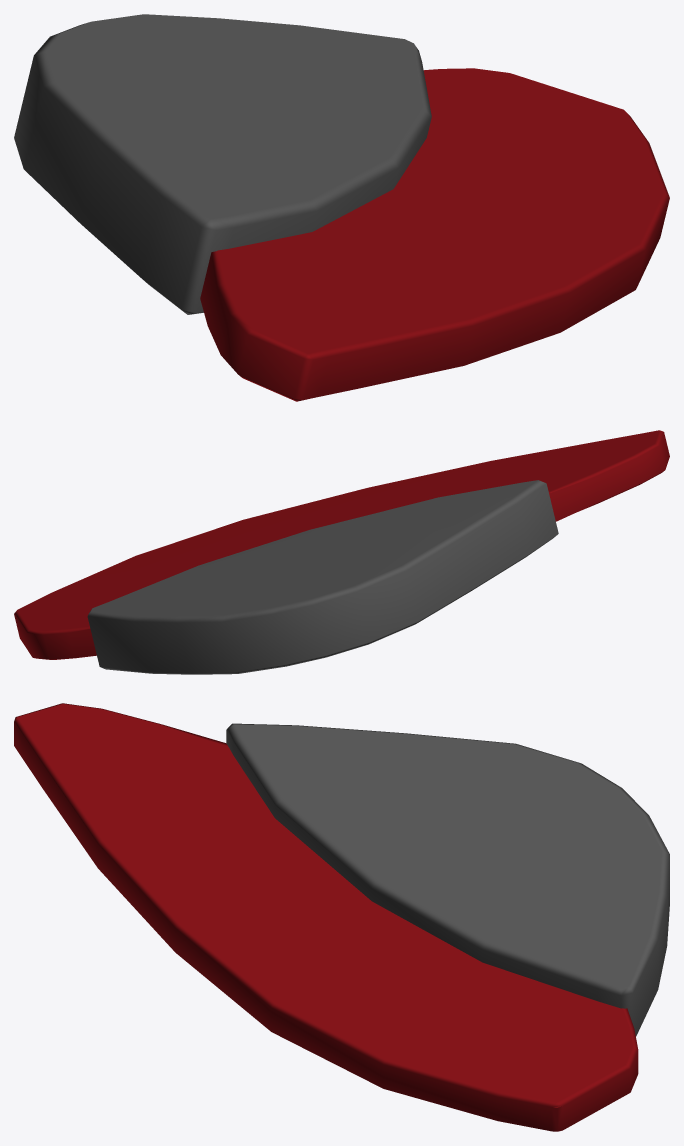
The model's file is Ship_enemy_07_Wing_L.fbx.
3 views of the same model, one above another, from view 1: azimuth 30°, elevation 25°; view 2: azimuth 150°, elevation 25°; view 3: azimuth 270°, elevation 25° (orthographic). The views are drawn at different scales.
Visible parts, largest first — view 1: Ship_enemy_07_Wing_L; view 2: Ship_enemy_07_Wing_L; view 3: Ship_enemy_07_Wing_L.
Part boxes in pixels (x1=…): Ship_enemy_07_Wing_L: x1=14, y1=14, x2=669, y2=401; Ship_enemy_07_Wing_L: x1=14, y1=430, x2=669, y2=674; Ship_enemy_07_Wing_L: x1=14, y1=703, x2=669, y2=1131.
Bounding box in the file's own units: 179 × 59.06 × 190.
